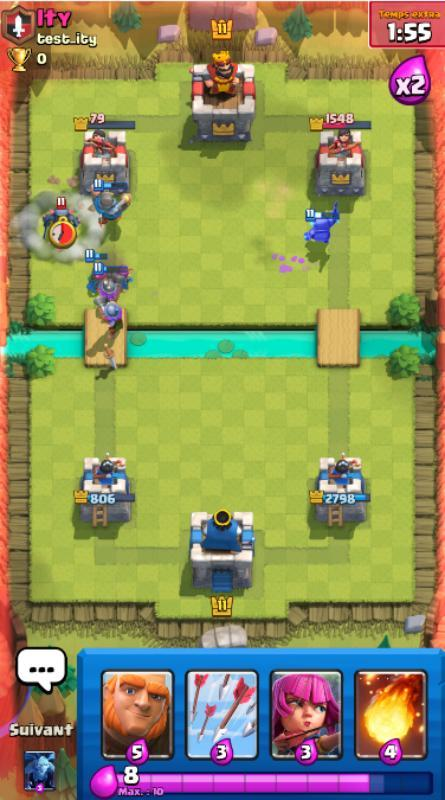archere: (84, 248, 111, 295), (113, 263, 135, 294)
chevalier: (90, 179, 132, 227)
mini_PEKKA: (301, 199, 340, 247), (41, 196, 81, 240)
mousquetaire: (92, 261, 127, 308), (93, 294, 125, 340)
